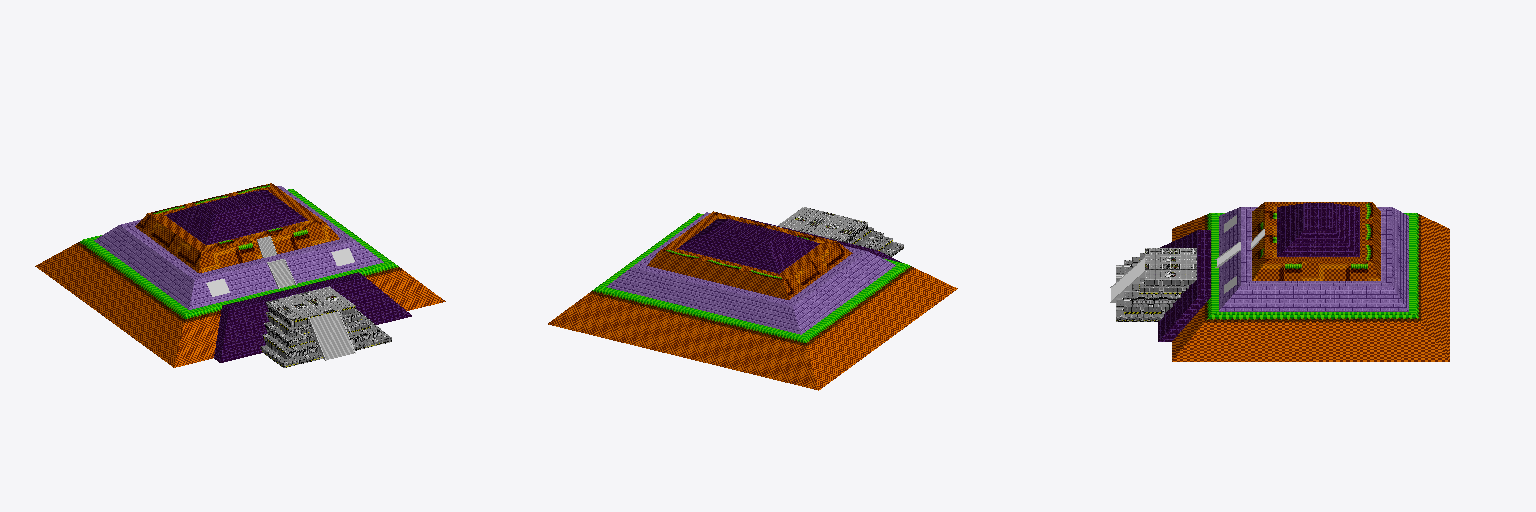
3 views of the same model, side by side, from view 1: azimuth 30°, elevation 25°; view 2: azimuth 150°, elevation 25°; view 3: azimuth 270°, elevation 25° (orthographic).
Parts seen in each view (by area): view 1: Plane, Plane.001, Cube; view 2: Plane, Plane.001; view 3: Plane, Plane.001, Cube.
Boxes of the visible parts, <box> form: Plane: <box>35,183,445,367</box>; Plane.001: <box>260,286,391,367</box>; Cube: <box>257,236,355,360</box>; Plane: <box>548,211,957,390</box>; Plane.001: <box>778,207,903,256</box>; Plane: <box>1158,202,1449,361</box>; Plane.001: <box>1116,248,1196,321</box>; Cube: <box>1110,229,1264,302</box>.
Bounding box in the file's own units: 22.98 × 6.34 × 24.89.
Materials: 8 (6 with a texture image).